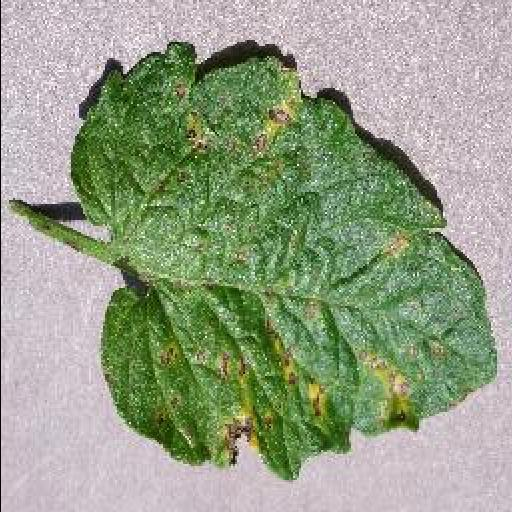disease_tomato: (70, 40, 500, 482)
